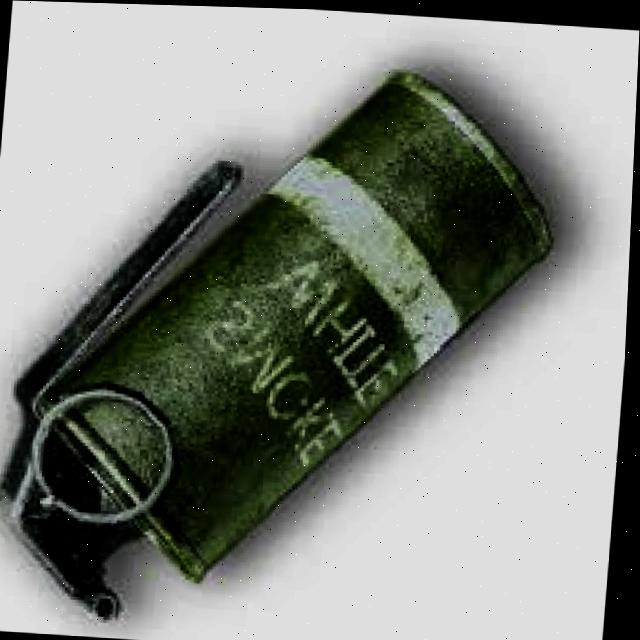grenade: (0, 39, 572, 640)
